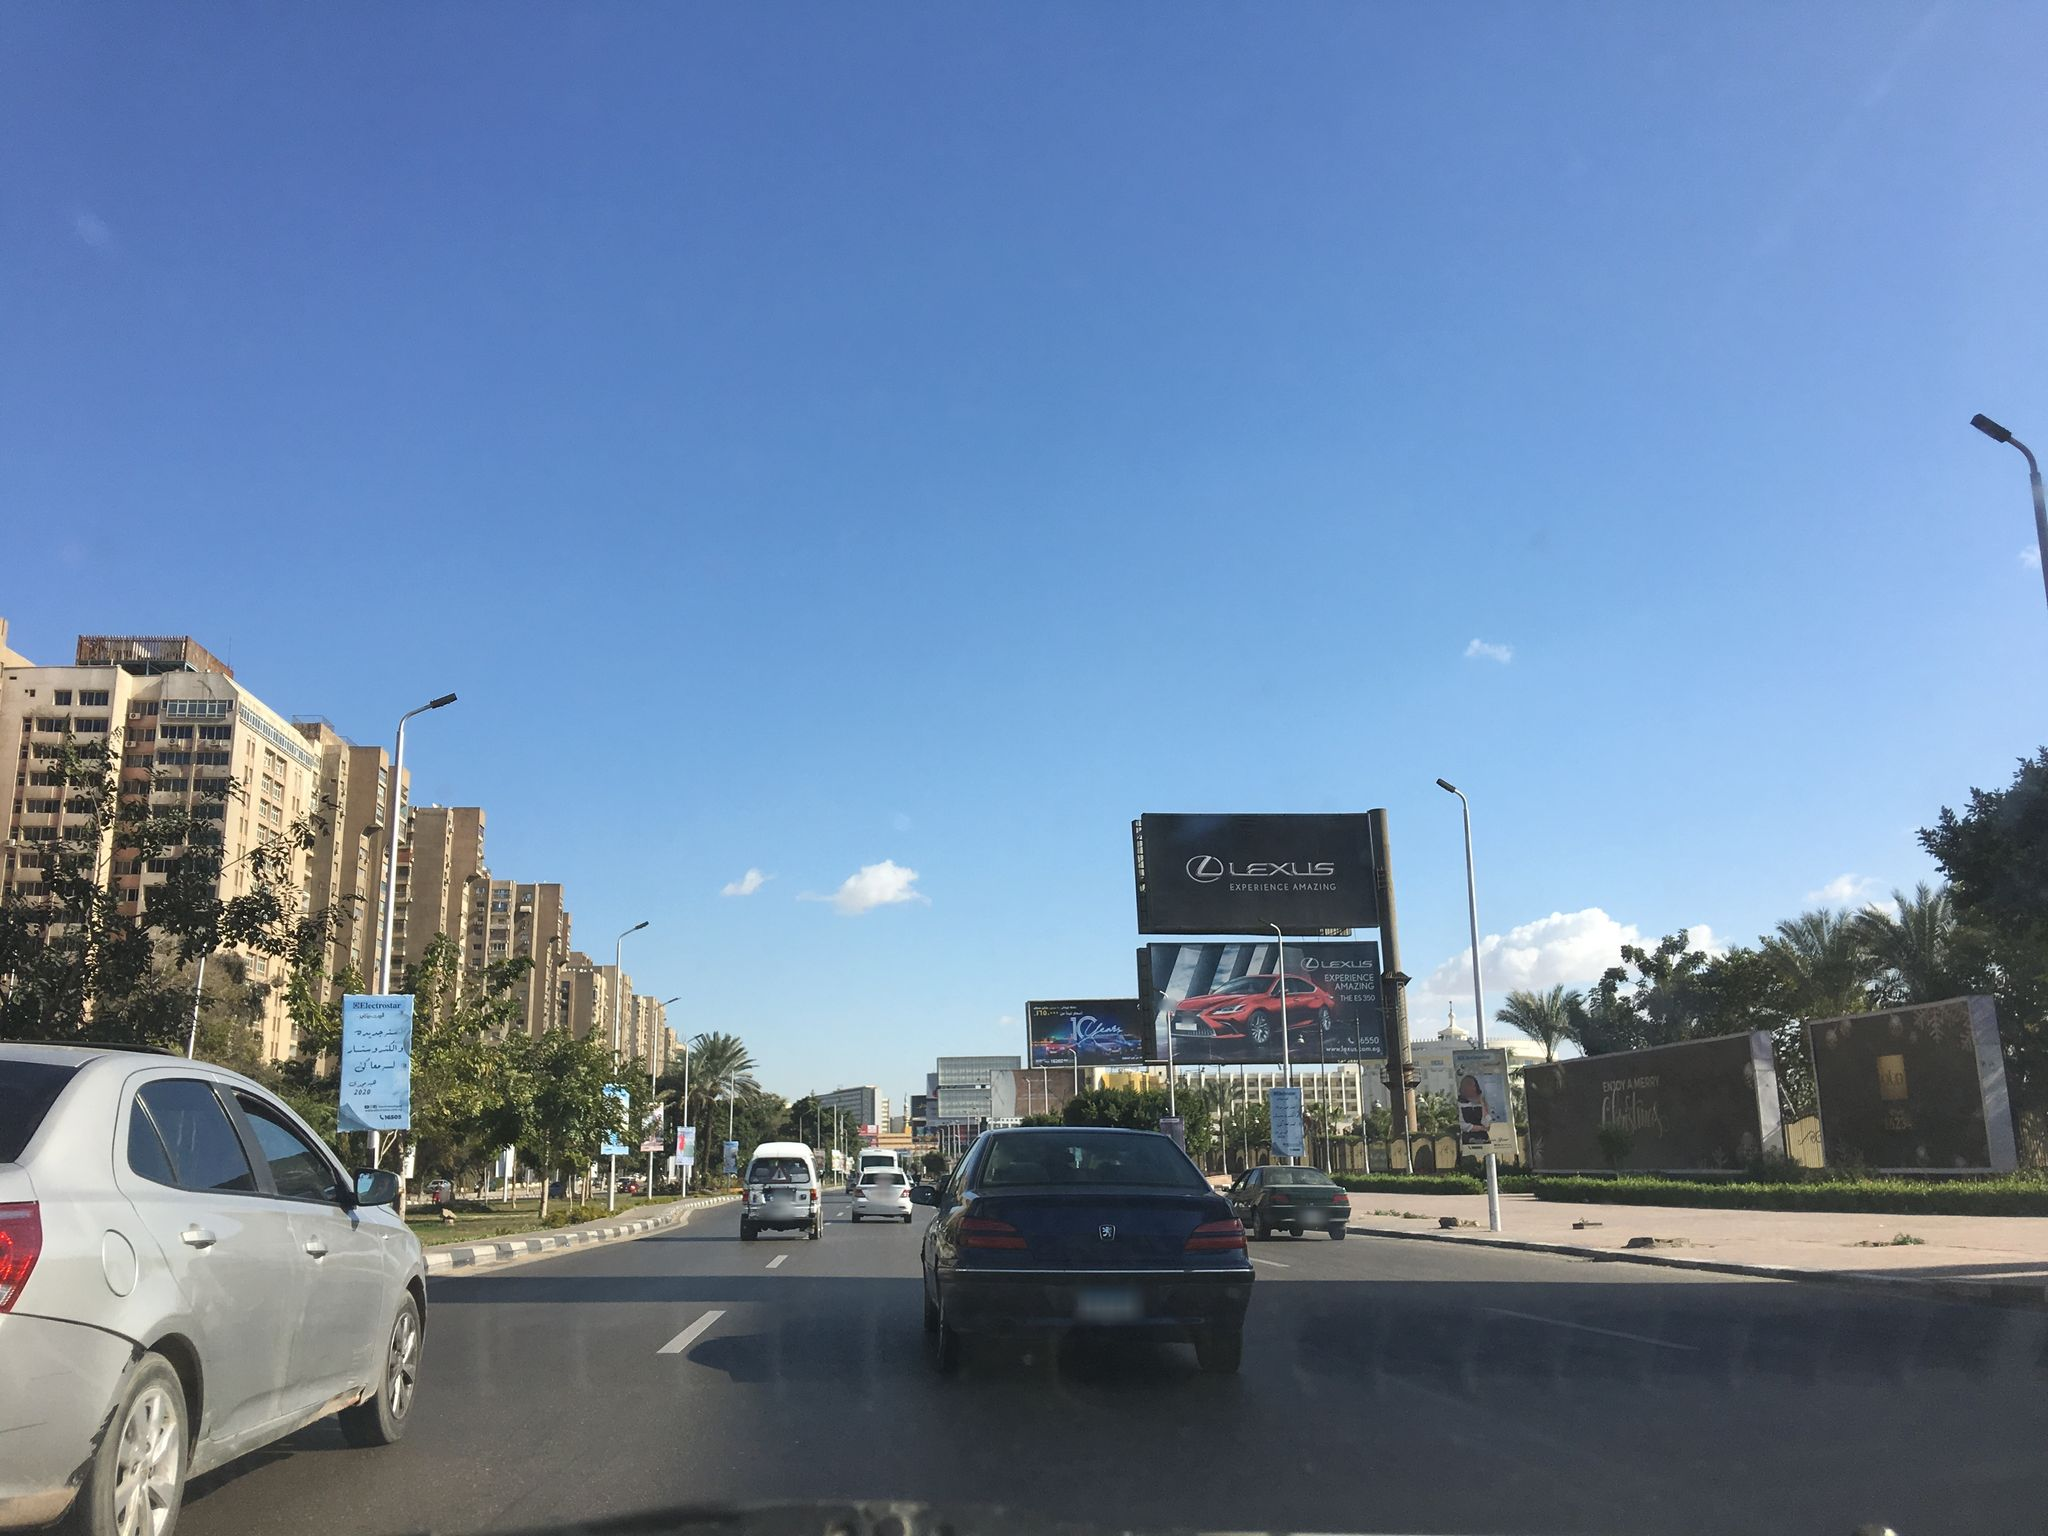car: (0, 1041, 434, 1536), (911, 1125, 1256, 1384), (1221, 1163, 1351, 1241), (739, 1141, 824, 1239), (850, 1167, 914, 1221), (855, 1147, 898, 1176)
